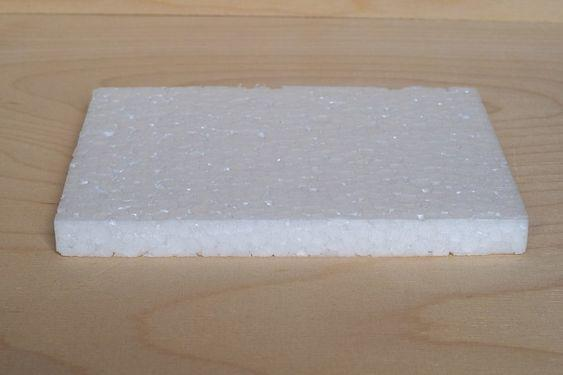PS: (55, 84, 527, 256)
